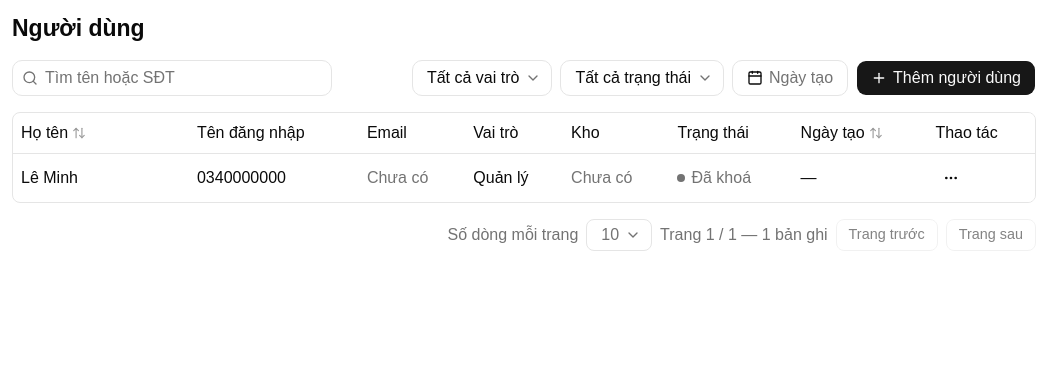
it: UsersPage — cờ bật (backend đã deploy contract đề xuất) › dòng đã khoá có "Mở khoá" thay cho "Khoá"
Click the button named "Thao tác với Lê Minh".
click(951, 178)  # box [935,162,967,194]
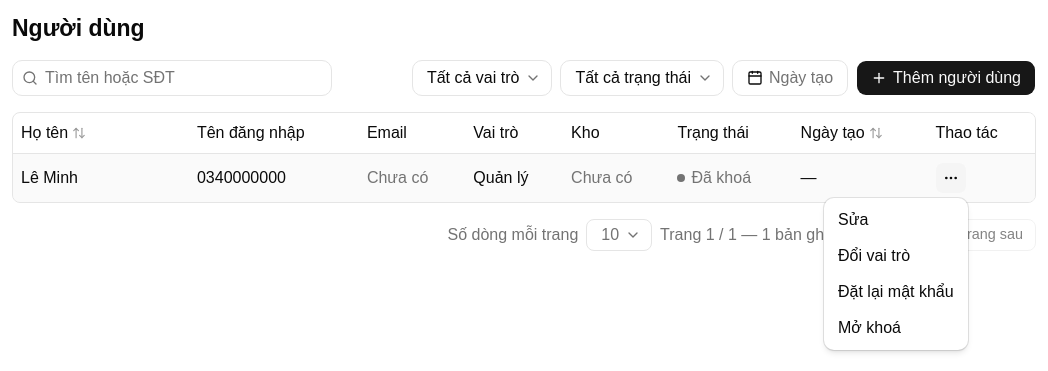
Expected: the menu item does not show "Khoá"
Now the menu item "Mở khoá" is shown, box [838,319,901,336]
